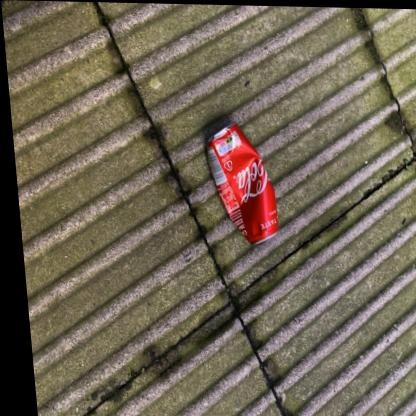trash: (208, 123, 278, 242)
